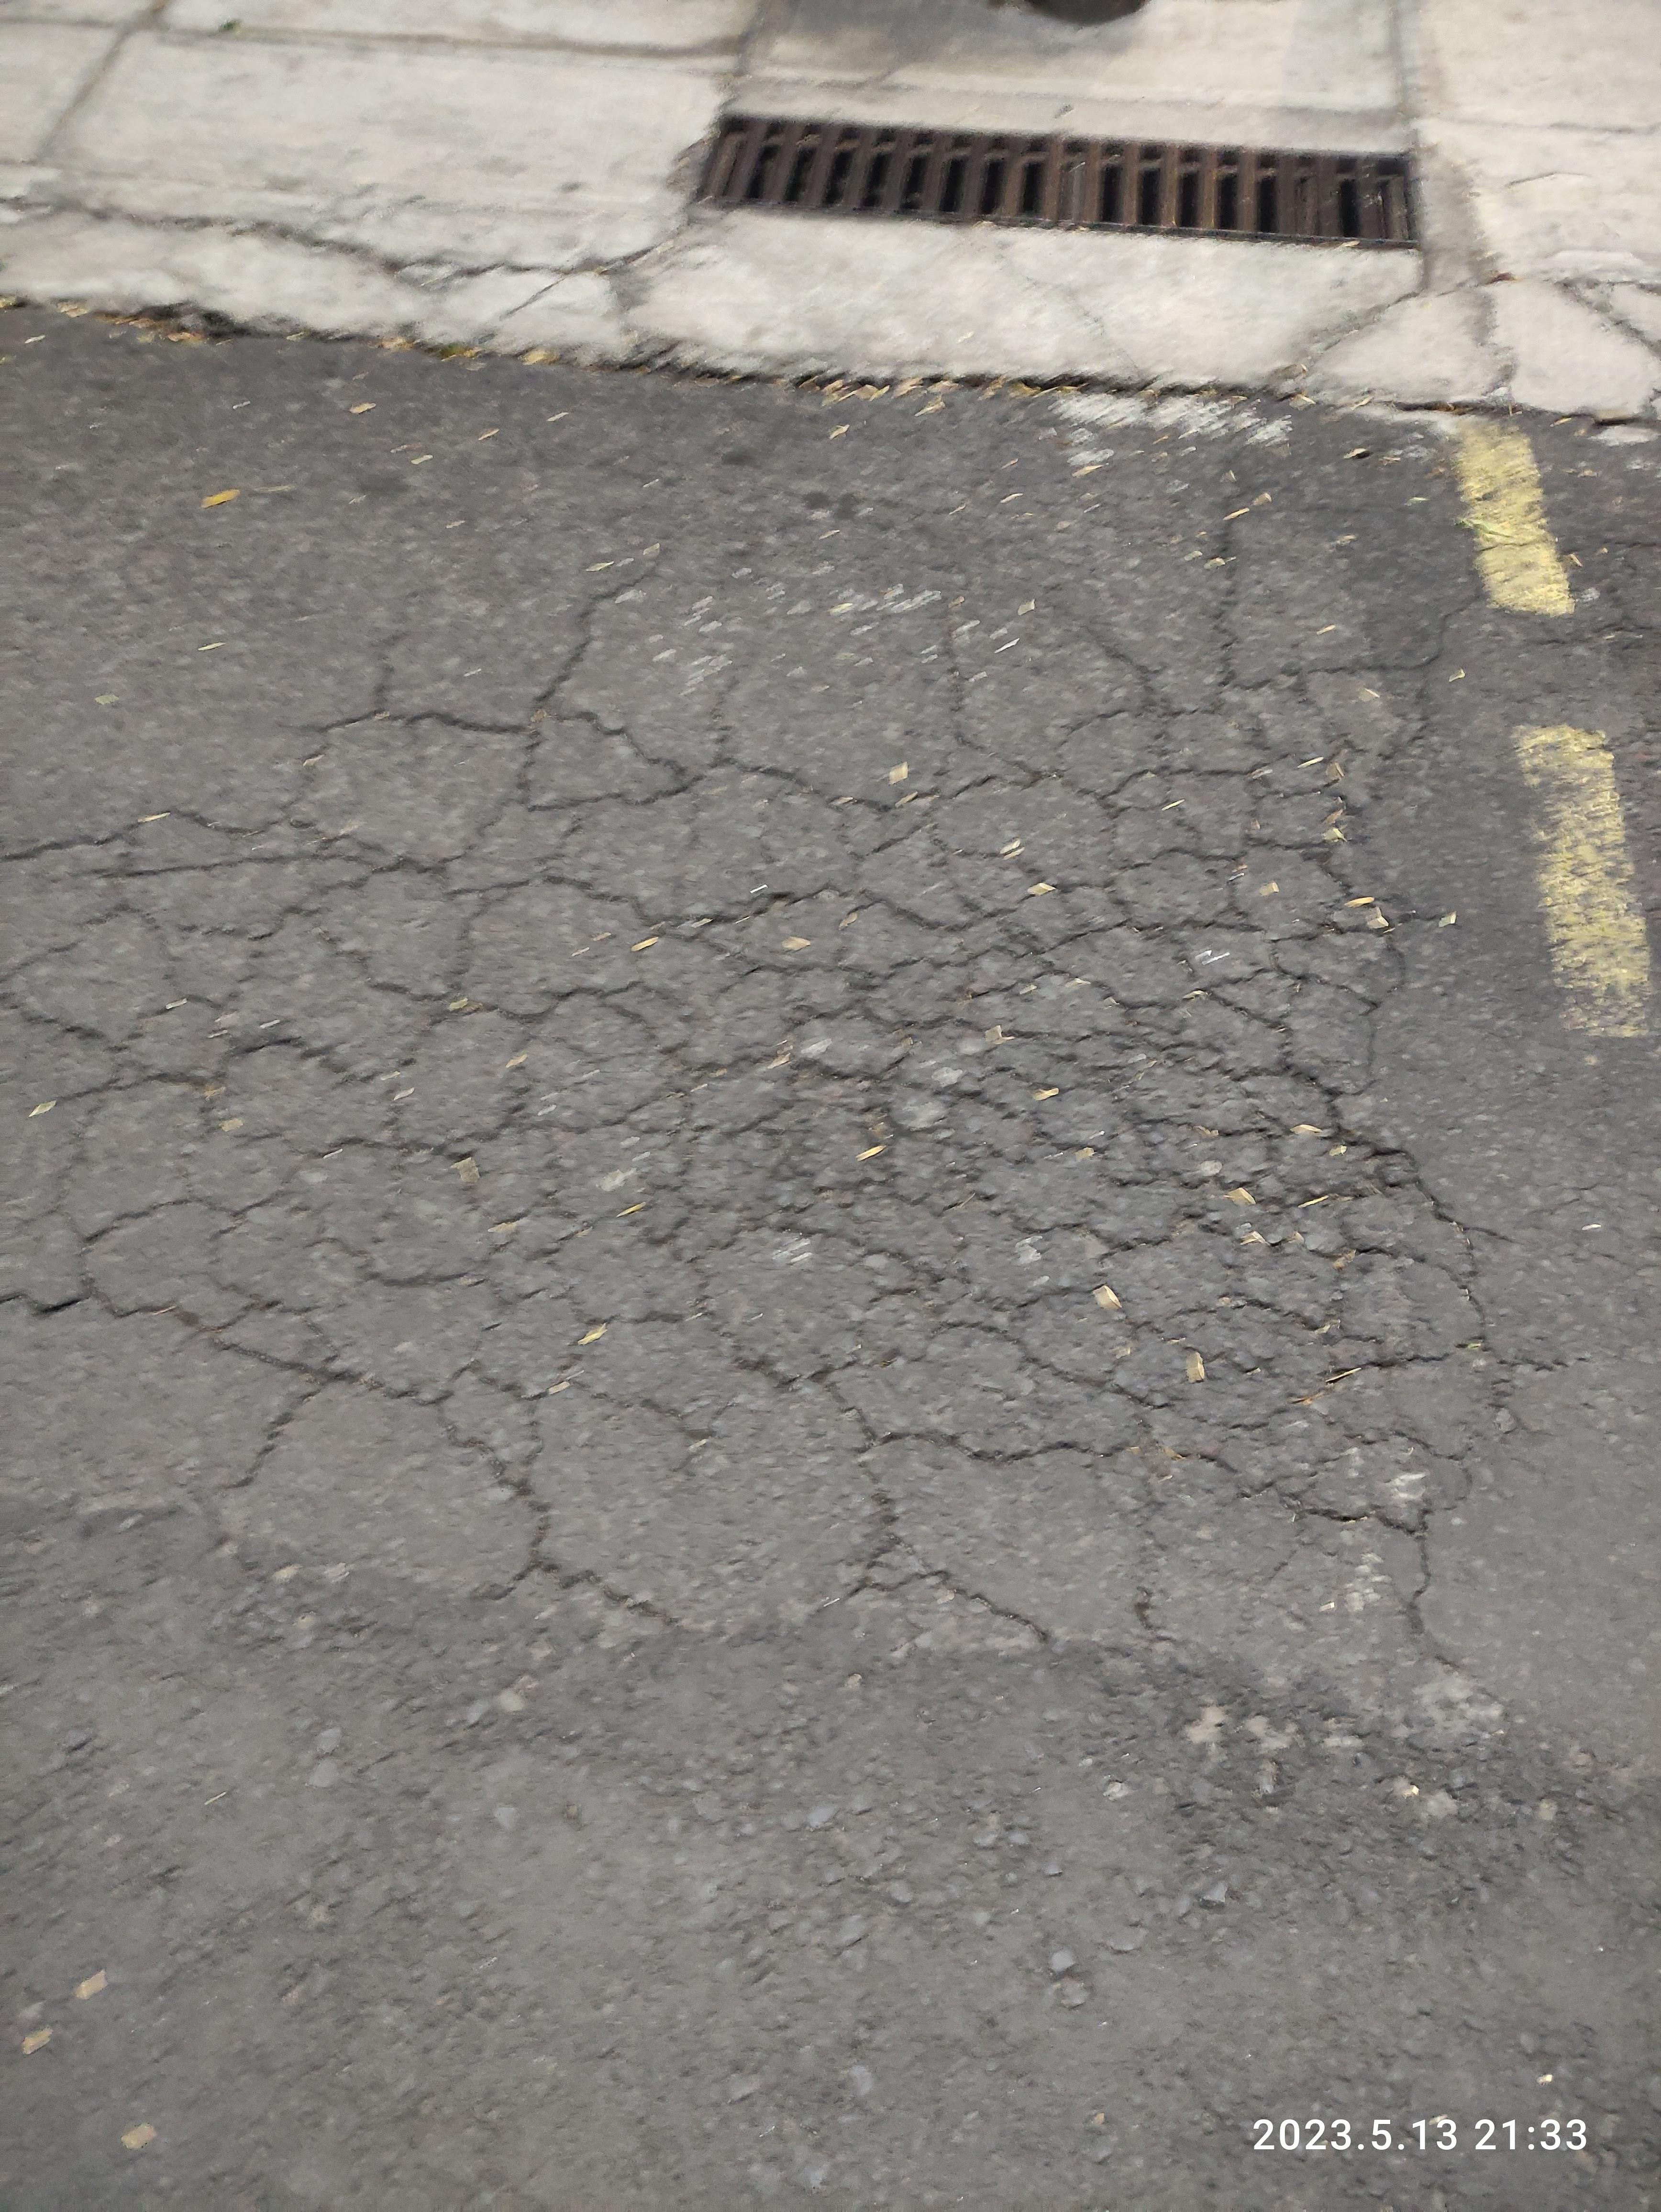crack: (613, 925, 1556, 1694), (0, 754, 761, 1514), (388, 551, 1451, 1062)
